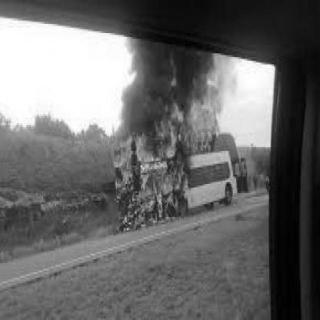Fire: (107, 80, 225, 226)
Smoke: (112, 37, 208, 93)
